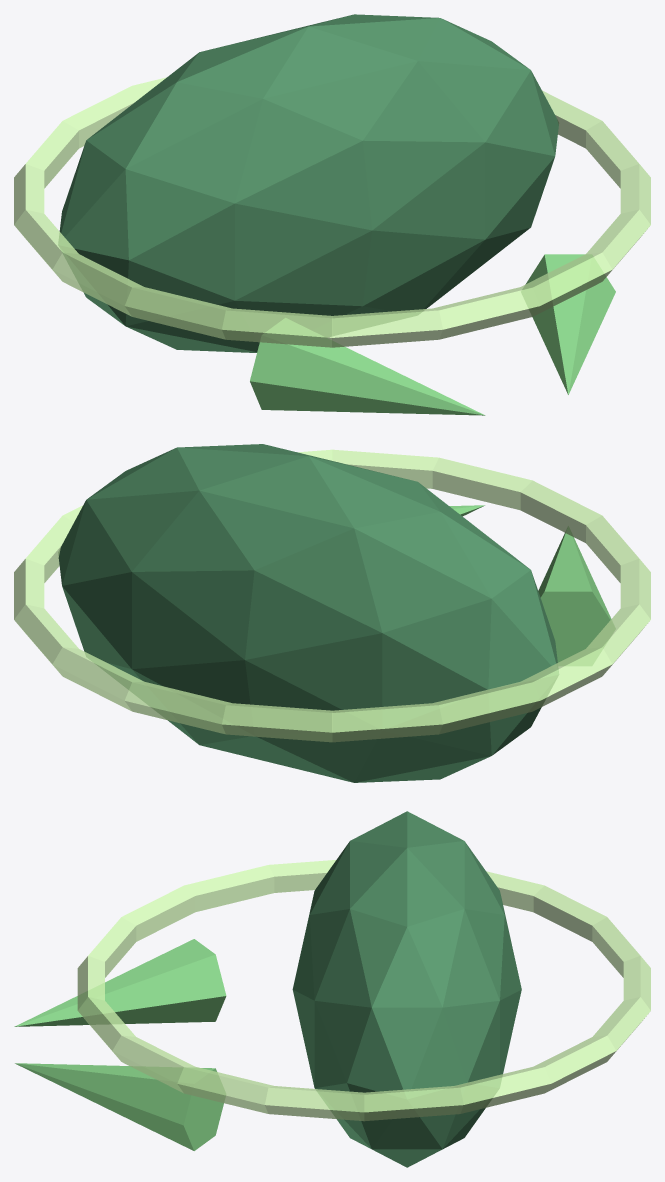
Rendered from 01_creature_skin_element_overlay_1.glb.
The picture shows the model from 3 angles, top to bottom: view 1: azimuth 30°, elevation 25°; view 2: azimuth 150°, elevation 25°; view 3: azimuth 270°, elevation 25°; orthographic projection. The views are drawn at different scales.
Parts seen in each view (by area): view 1: skin_patch_body, element_aura, elemental_horn_l, elemental_horn_r; view 2: skin_patch_body, element_aura, elemental_horn_l; view 3: skin_patch_body, element_aura, elemental_horn_l, elemental_horn_r.
Part boxes in pixels (bbox=[...]): skin_patch_body: bbox=[58, 14, 558, 352]; element_aura: bbox=[14, 77, 650, 347]; elemental_horn_l: bbox=[250, 318, 485, 415]; elemental_horn_r: bbox=[521, 254, 615, 394]; skin_patch_body: bbox=[58, 444, 558, 782]; element_aura: bbox=[14, 449, 650, 742]; elemental_horn_l: bbox=[538, 526, 615, 665]; skin_patch_body: bbox=[292, 811, 521, 1167]; element_aura: bbox=[77, 860, 650, 1121]; elemental_horn_l: bbox=[14, 939, 226, 1026]; elemental_horn_r: bbox=[15, 1063, 225, 1150].
Bounding box in the file's own units: 0.95 × 0.51 × 1.04.
